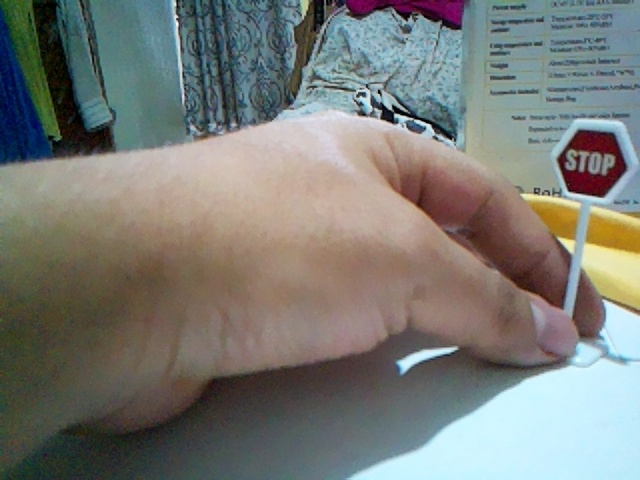stop_sign: (550, 120, 637, 202)
